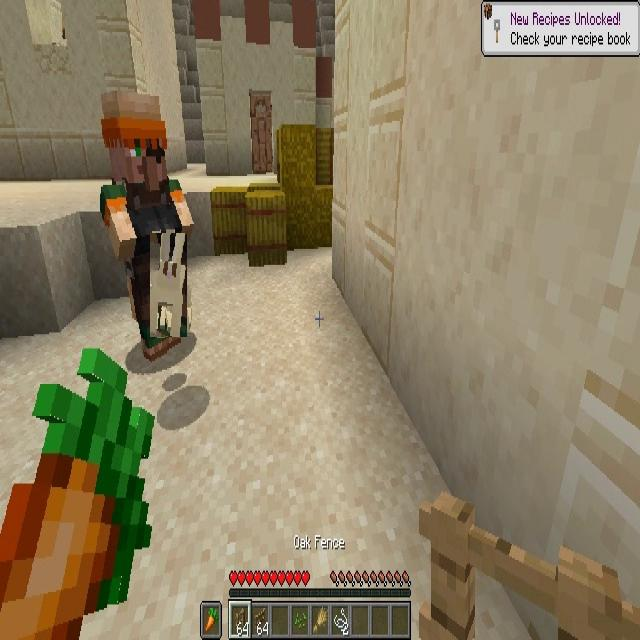people: (100, 94, 195, 360)
rabbit: (150, 233, 187, 337)
